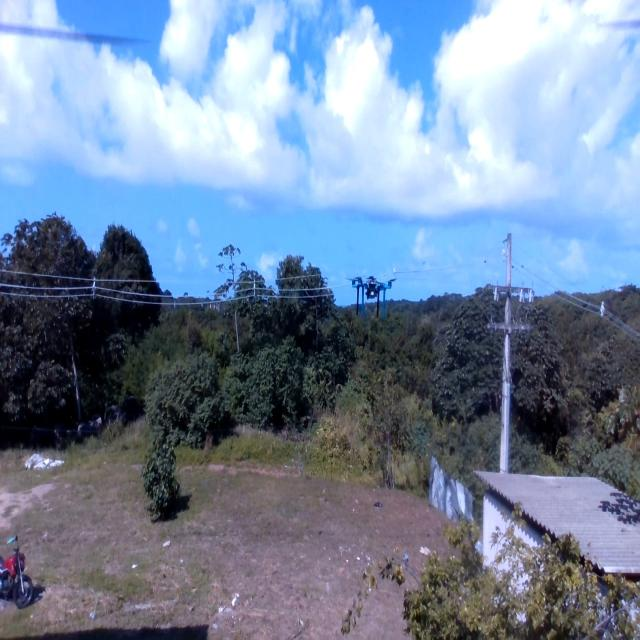-uav-: (338, 262, 408, 324)
